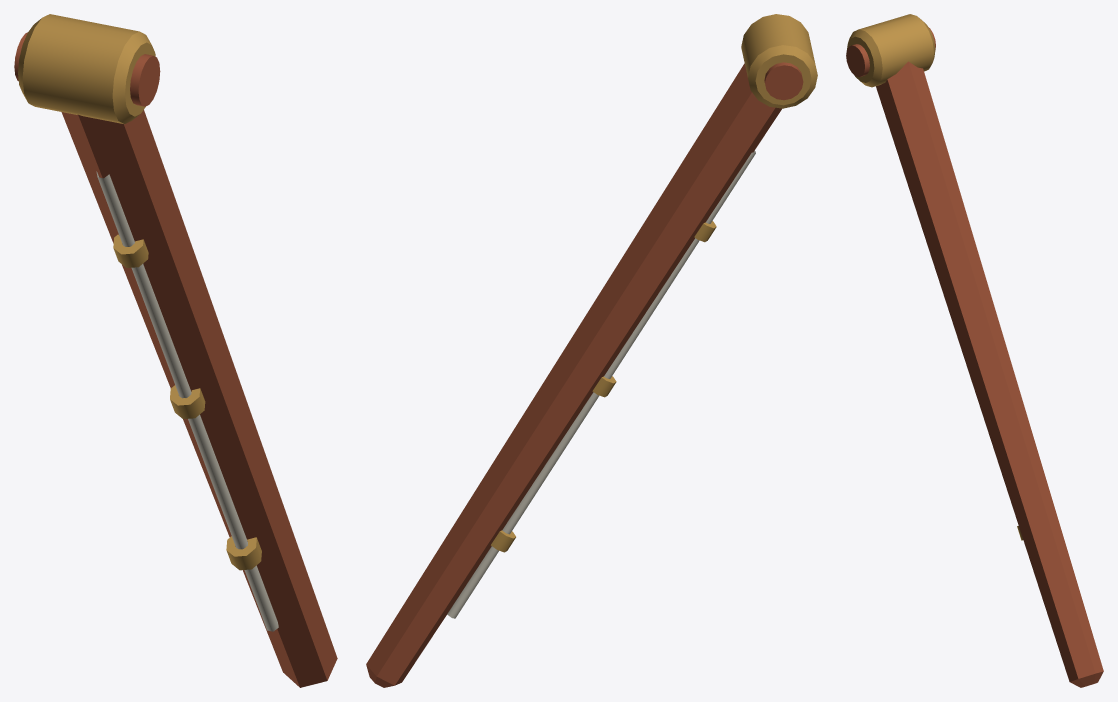
File: rm2_leg_rl_tibia.obj
3 renders of one model, left to right at view 1: azimuth 30°, elevation 25°; view 2: azimuth 150°, elevation 25°; view 3: azimuth 270°, elevation 25°, orthographic. The views are drawn at different scales.
Parts seen in each view (by area): view 1: rm2_leg_rl_tibia; view 2: rm2_leg_rl_tibia; view 3: rm2_leg_rl_tibia.
Boxes of the visible parts, box(x1,y1,x2,y2) form: rm2_leg_rl_tibia: box(14, 14, 337, 687); rm2_leg_rl_tibia: box(366, 14, 817, 687); rm2_leg_rl_tibia: box(846, 14, 1103, 687).
Bounding box in the file's own units: 0.4465 × 0.8062 × 0.3441.
